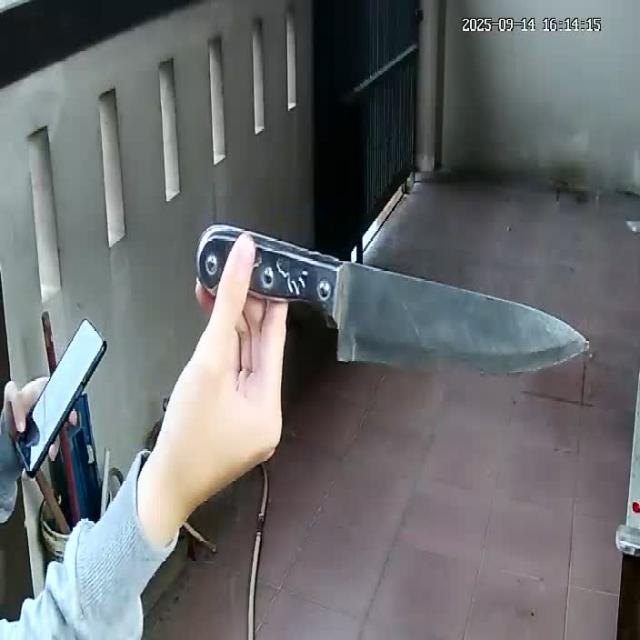senjata_tajam: (292, 248, 592, 378)
